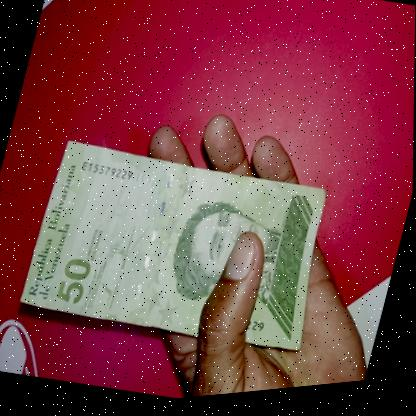fifty-front-vef: (18, 119, 344, 379)
